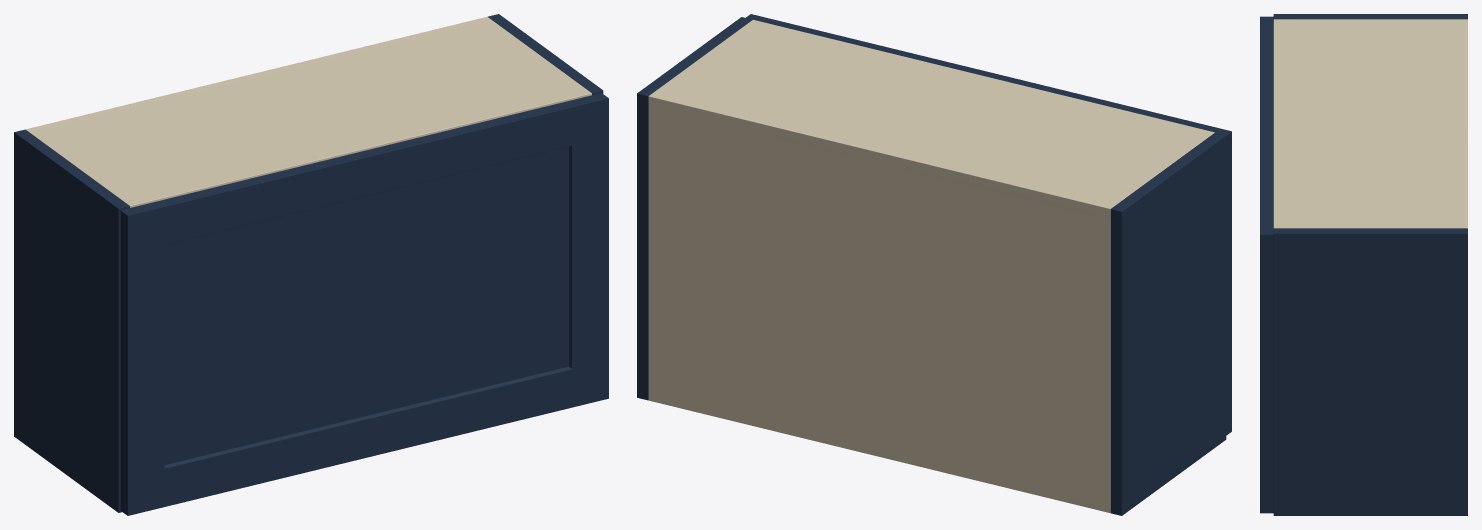
Rendered from oppein-ply-bss-wsl3018.glb.
The picture shows the model from 3 angles, left to right: view 1: azimuth 30°, elevation 25°; view 2: azimuth 150°, elevation 25°; view 3: azimuth 270°, elevation 25°; orthographic projection. The views are drawn at different scales.
Visible parts, largest first — view 1: Door, Cabinet top, Cabinet side, Cabinet back, Cabinet side.001; view 2: Cabinet back, Cabinet top, Cabinet side, Cabinet side.001, Door; view 3: Cabinet side.001, Cabinet top, Door, Cabinet back, Cabinet side.
Boxes of the visible parts, x1=… form: Door: x1=120, y1=93, x2=608, y2=515; Cabinet top: x1=30, y1=17, x2=591, y2=207; Cabinet side: x1=14, y1=129, x2=129, y2=512; Cabinet back: x1=25, y1=16, x2=490, y2=132; Cabinet side.001: x1=488, y1=14, x2=603, y2=95; Cabinet back: x1=648, y1=93, x2=1113, y2=512; Cabinet top: x1=648, y1=19, x2=1214, y2=219; Cabinet side: x1=1110, y1=132, x2=1226, y2=515; Cabinet side.001: x1=637, y1=17, x2=752, y2=400; Door: x1=746, y1=14, x2=1231, y2=435; Cabinet side.001: x1=1273, y1=228, x2=1467, y2=515; Cabinet top: x1=1273, y1=19, x2=1467, y2=228; Door: x1=1260, y1=16, x2=1273, y2=513; Cabinet back: x1=1460, y1=19, x2=1467, y2=228; Cabinet side: x1=1273, y1=14, x2=1467, y2=19.
Bounding box in the file's own units: 0.762 × 0.4572 × 0.3048.
